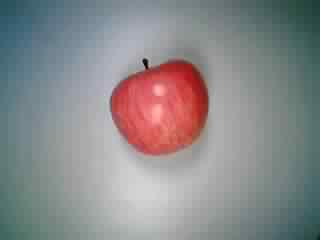apple: (108, 52, 213, 154)
